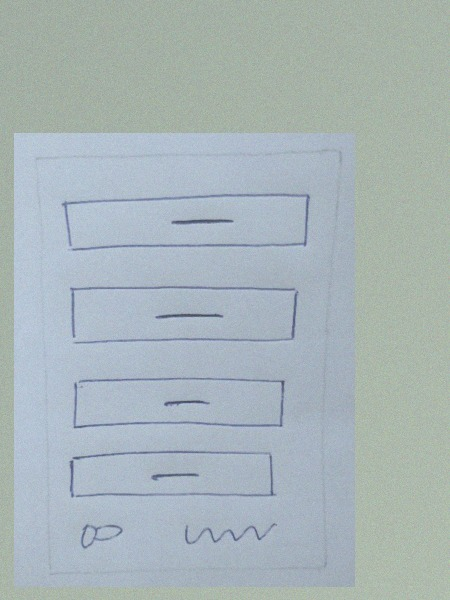button: (56, 188, 313, 258), (63, 281, 304, 346), (68, 370, 295, 432), (63, 446, 279, 507)
switch: (72, 517, 129, 555)
text: (175, 514, 279, 557)
